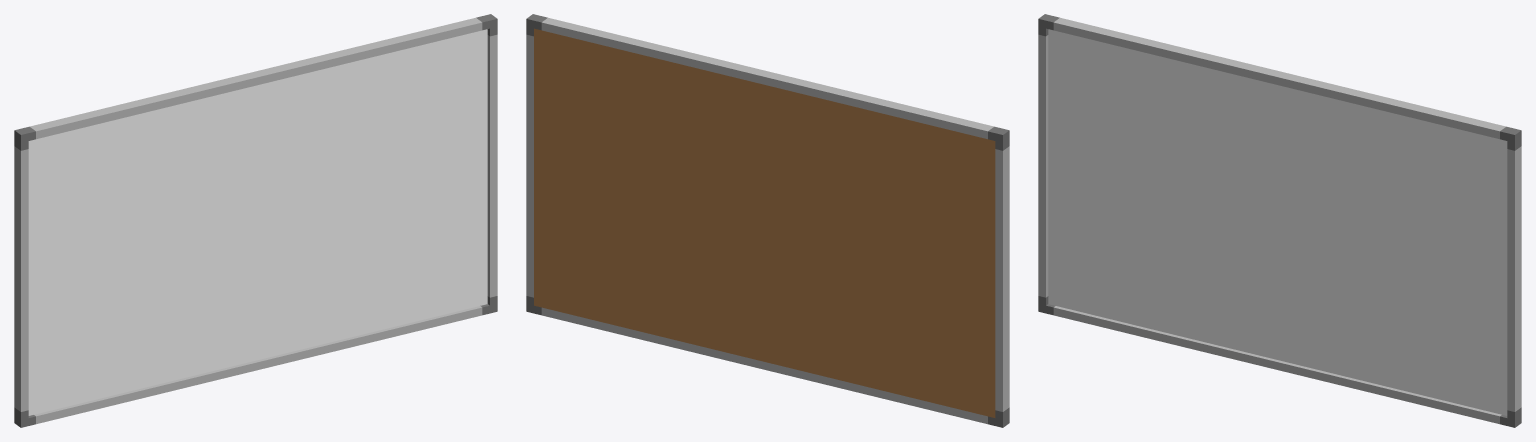
The model's file is White_Board1.fbx.
3 renders of one model, left to right at view 1: azimuth 30°, elevation 25°; view 2: azimuth 150°, elevation 25°; view 3: azimuth 330°, elevation 25°, orthographic.
Parts seen in each view (by area): view 1: White Board1; view 2: White Board1; view 3: White Board1.
Boxes of the visible parts, <box> form: White Board1: <box>14,14,497,427</box>; White Board1: <box>526,14,1009,427</box>; White Board1: <box>1038,14,1521,427</box>.
Size of the model in its own units: 12.6 by 7.4 by 0.3.
